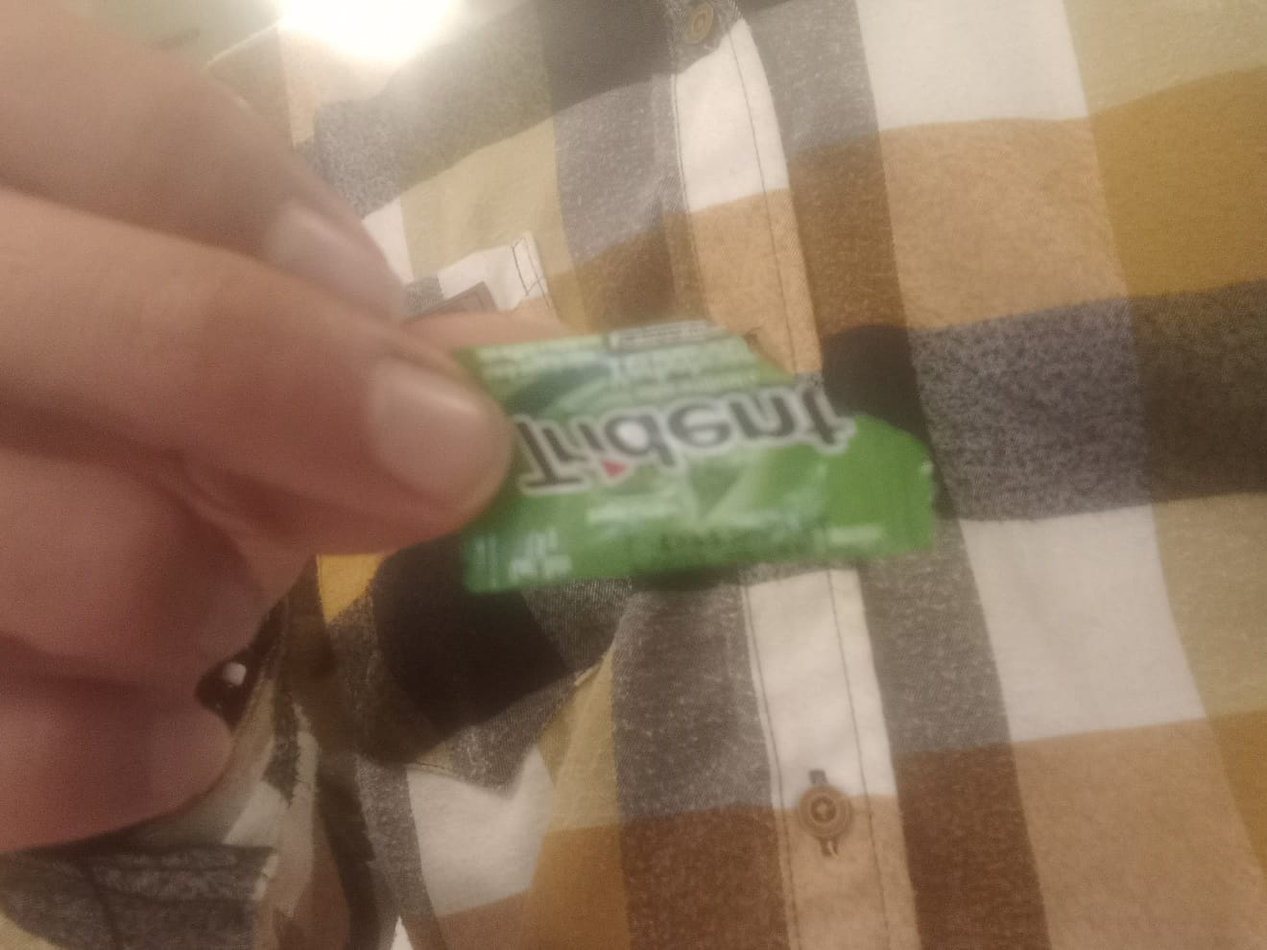Ordinario: (453, 322, 952, 592)
